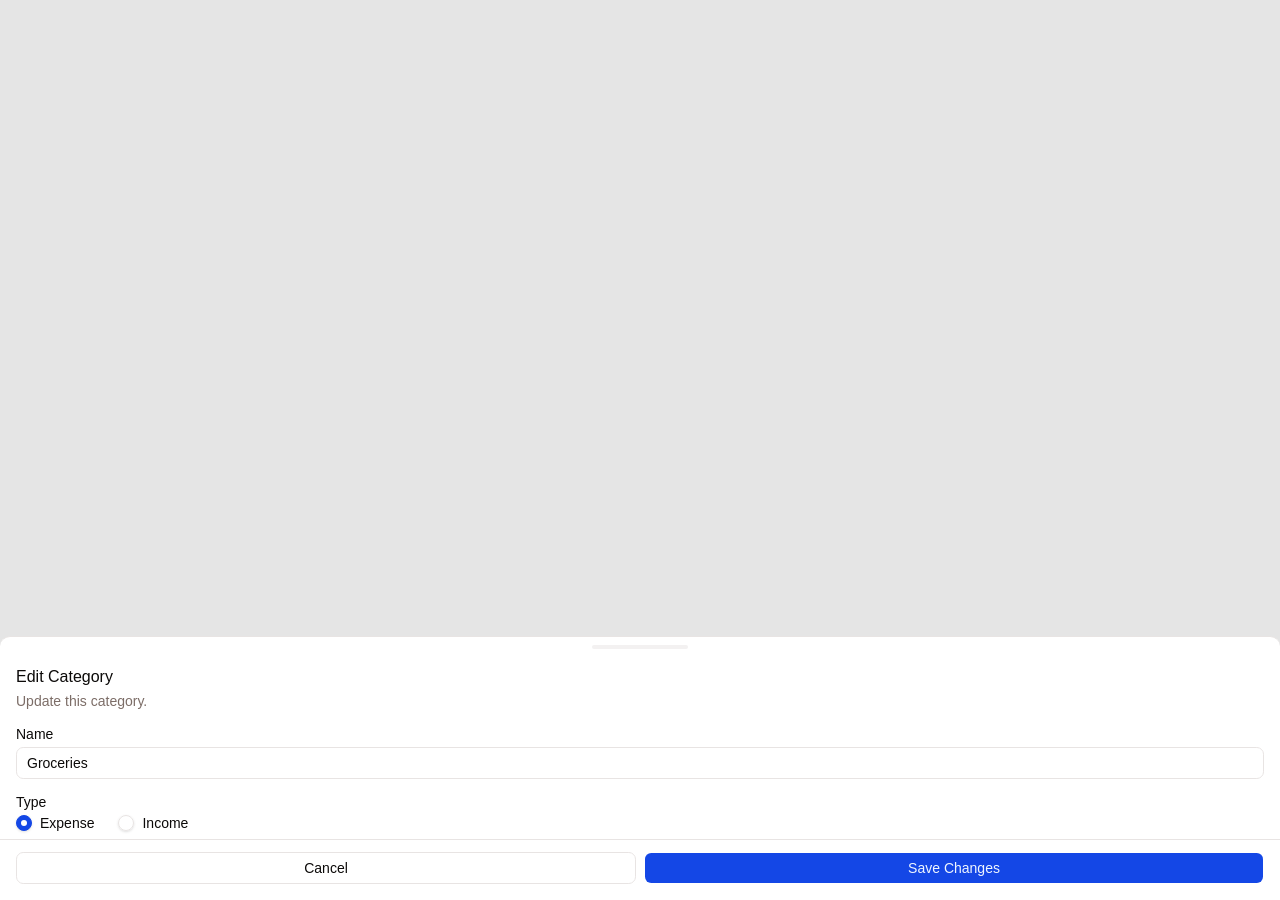
Scenario: CategorySheet › keeps the draft and shows an error when saving fails
Replace the text in the field labelled "Name" with "Food": coordinates (640, 763) [16,747,1264,779]
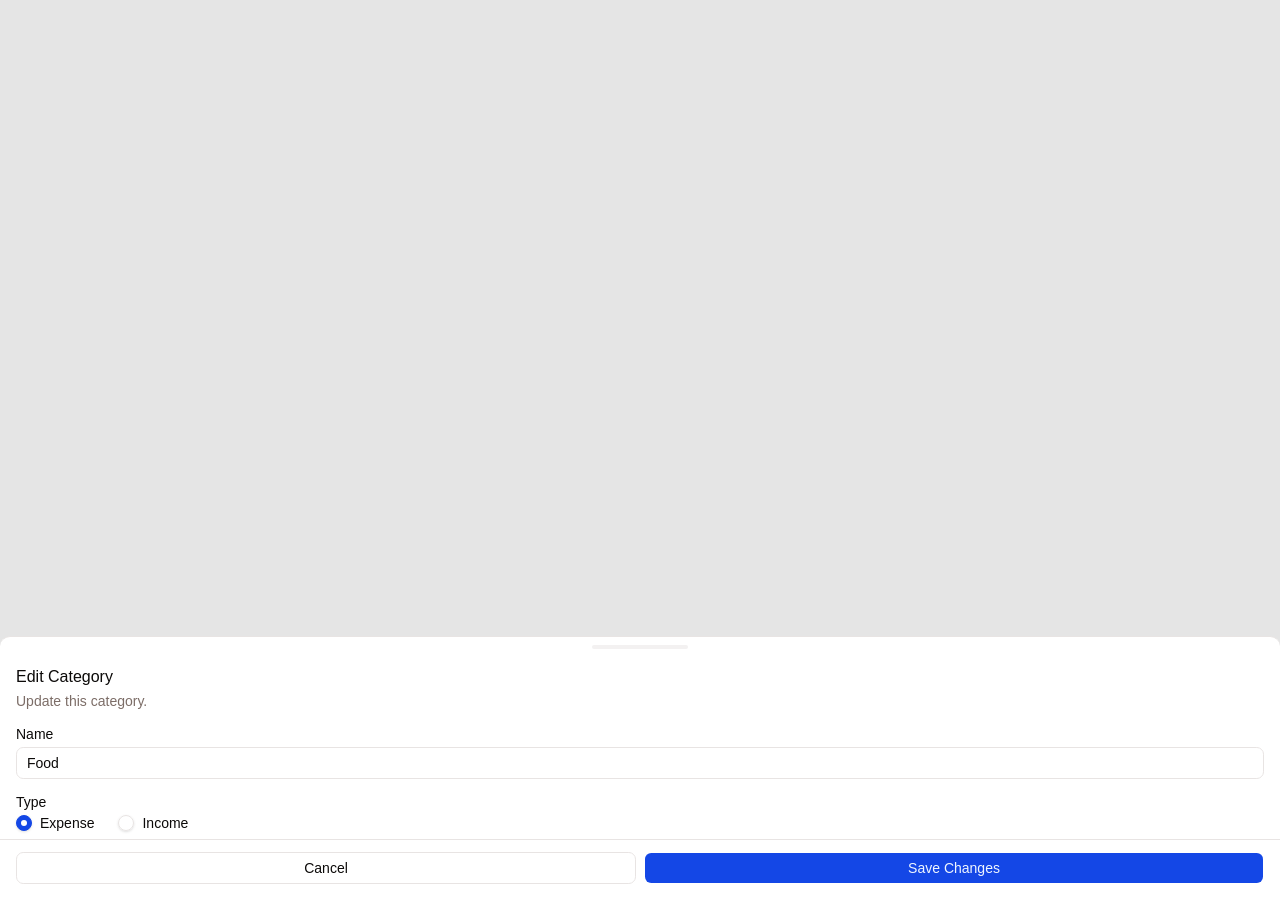
Click the button "Save Changes": coordinates (954, 868) [644,852,1264,884]
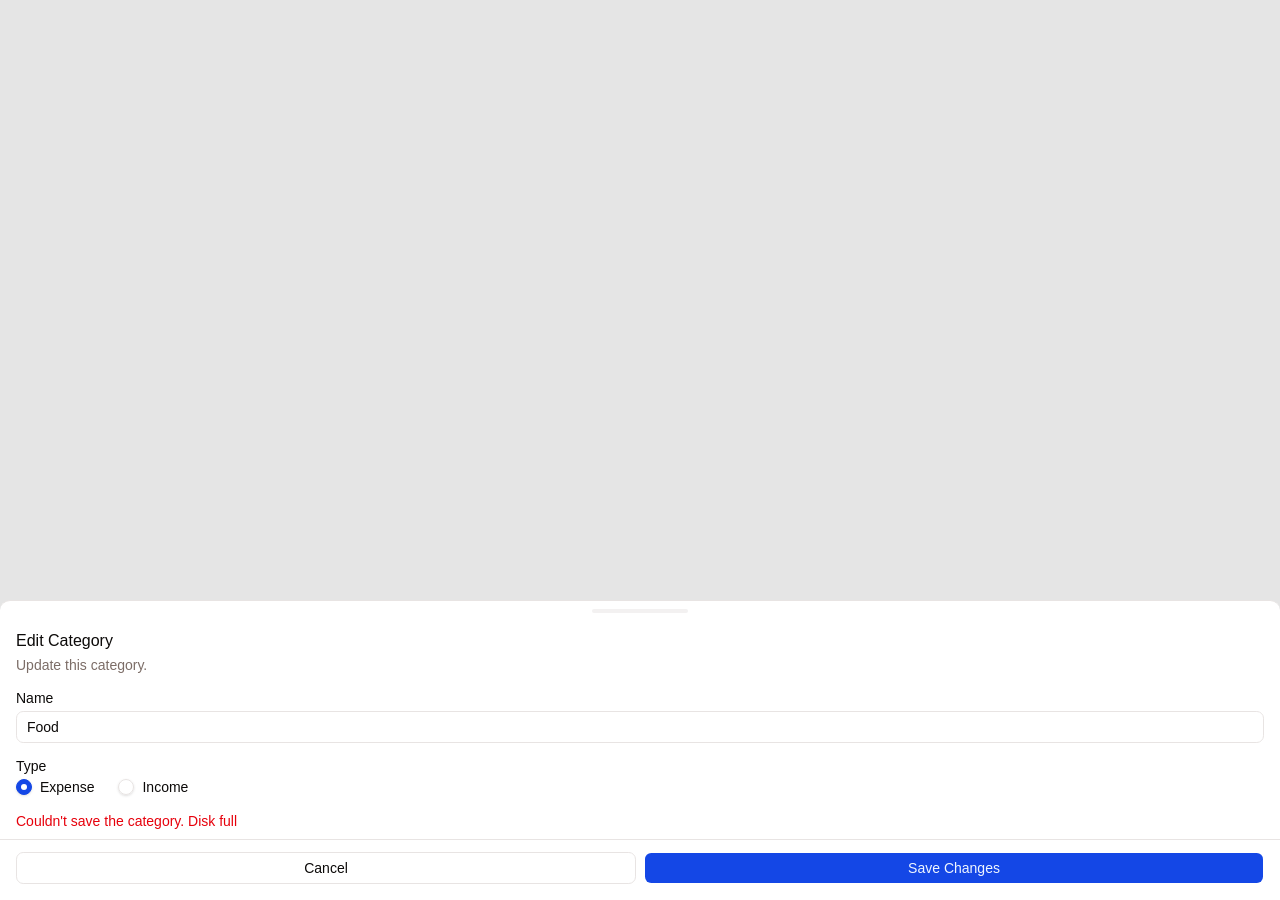
expect the message reads "Couldn't save the category. Disk full": met, box [16,813,237,829]
